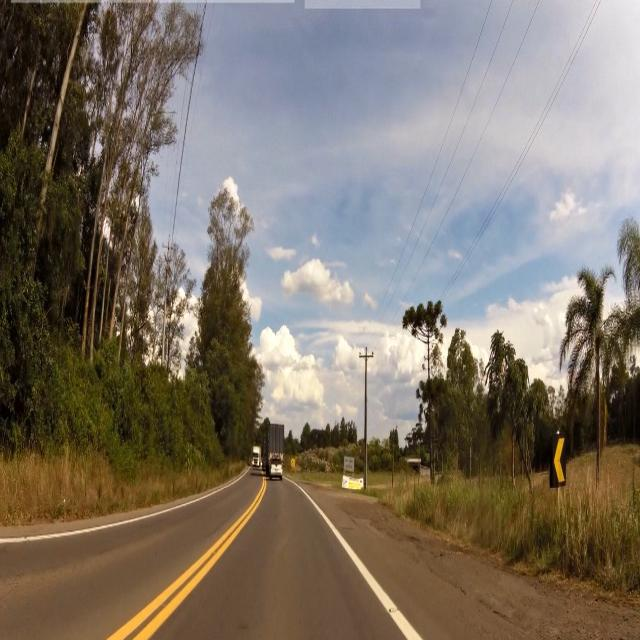Del: (548, 434, 567, 486)
